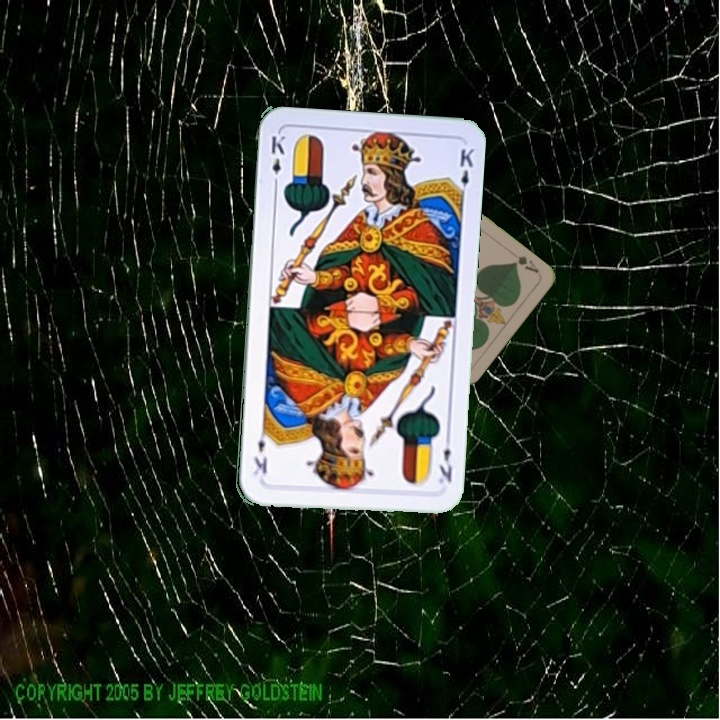EK: (267, 131, 288, 190), (435, 432, 455, 486)
GA: (507, 247, 541, 276)
